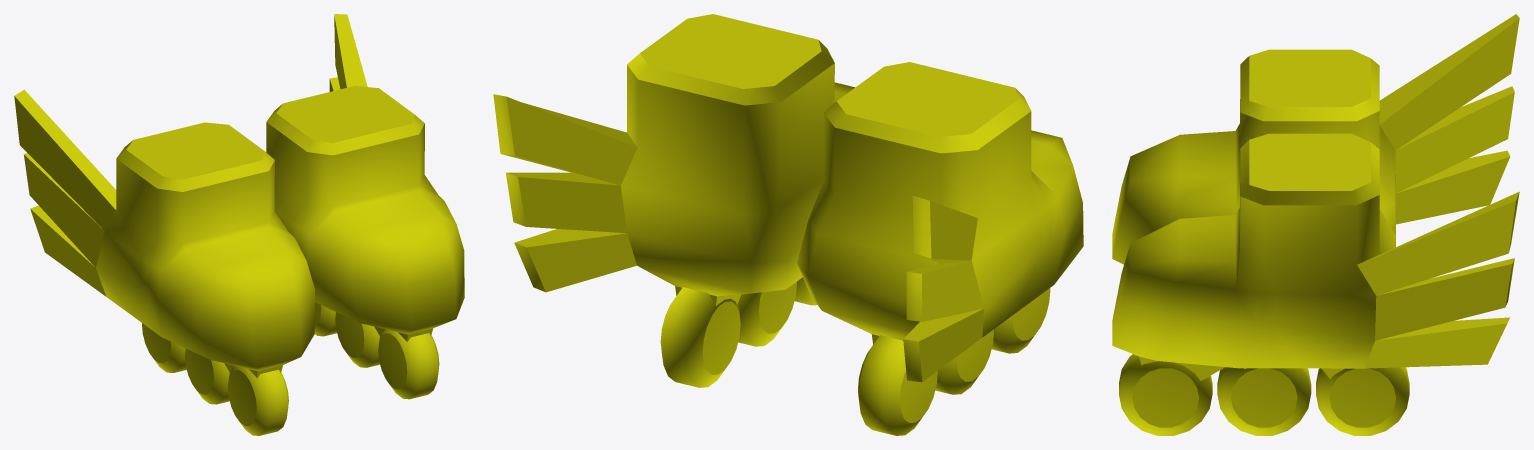
The model's file is mount_rollers.glb.
The picture shows the model from 3 angles, left to right: view 1: azimuth 30°, elevation 25°; view 2: azimuth 150°, elevation 25°; view 3: azimuth 270°, elevation 25°; orthographic projection. The views are drawn at different scales.
Visible parts, largest first — view 1: roll_r; view 2: roll_r; view 3: roll_r.
Boxes of the visible parts, x1,y1,x2,y2 form: roll_r: (14, 14, 464, 435); roll_r: (493, 14, 1083, 435); roll_r: (1112, 14, 1519, 435).
Size of the model in its own units: 0.406 by 0.2883 by 0.3749.
Materials: 1 (1 with a texture image).
